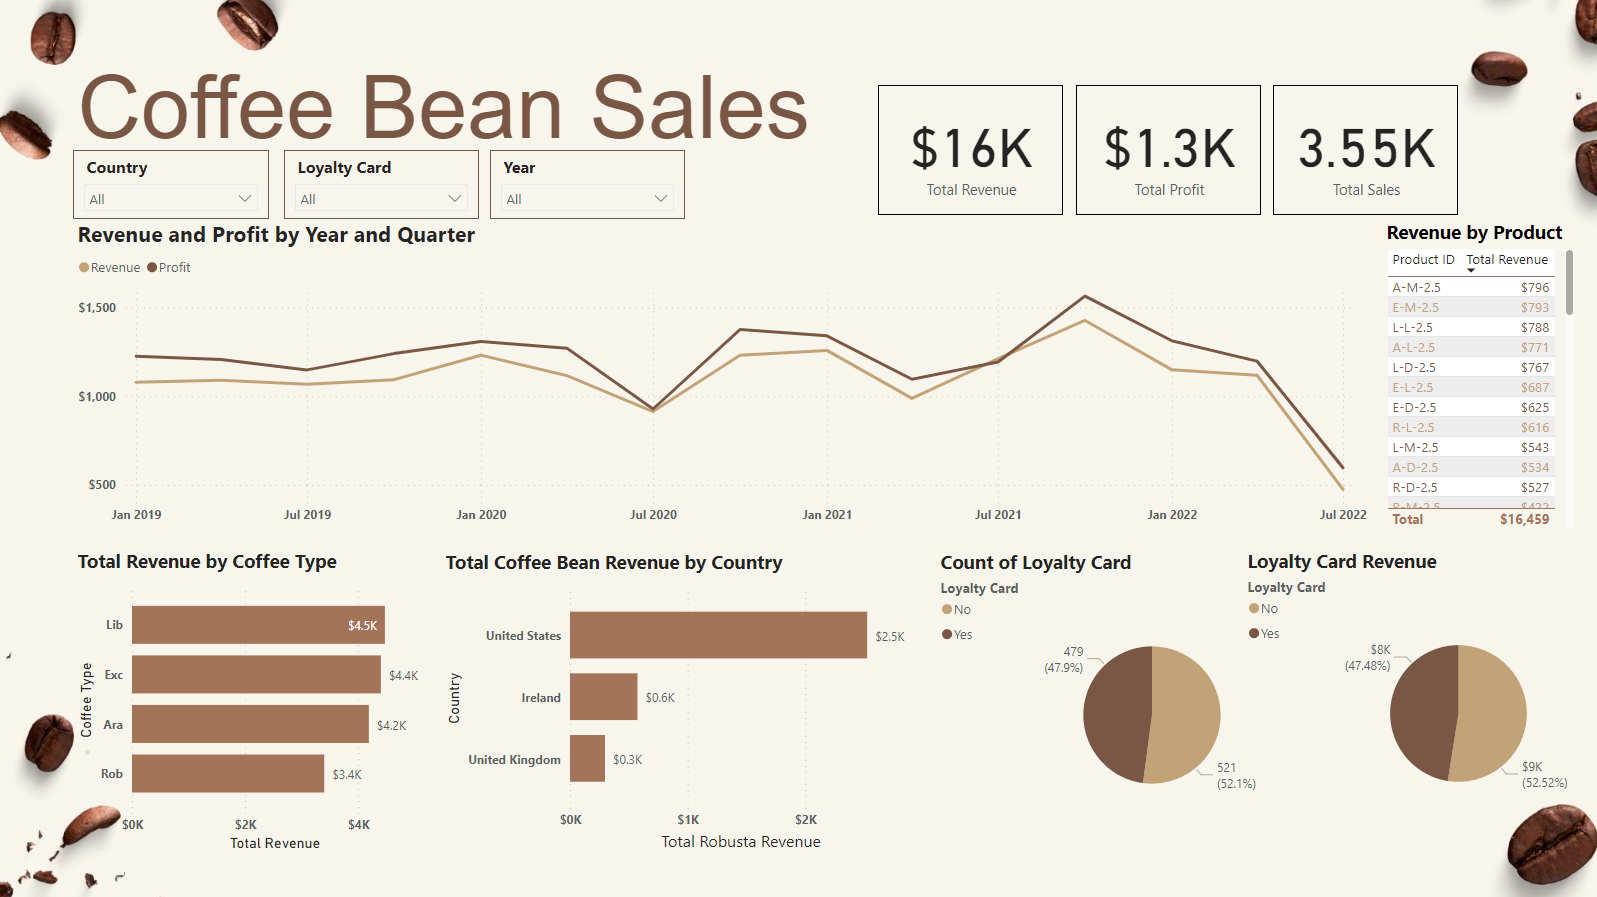

This screenshot's page, from the dashboard's own definition file:
{"tool":"powerbi","page":{"name":"Page 1","canvas":[1600,900],"ordinal":0},"visuals":[{"type":"card","fields":{"Values":["Query1.Total_Revenue"]},"box":[878.9,85,184.8,130],"z":0},{"type":"lineChart","fields":{"Y":["Query1.Total Revenue"],"Category":["Query1.Order Date.Variation.Date Hierarchy.Year","Query1.Order Date.Variation.Date Hierarchy.Quarter","Query1.Order Date.Variation.Date Hierarchy.Month","Query1.Order Date.Variation.Date Hierarchy.Day"],"Y2":["Query1.Profit"]},"box":[74.4,219.1,1298.3,313.9],"z":1000},{"type":"card","fields":{"Values":["Query1.Profit"]},"box":[1076.8,85,184.8,130],"z":2000},{"type":"clusteredBarChart","title":"Total Revenue by Coffee Type","fields":{"Category":["Query1.Coffee Type"],"Y":["Query1.Total Revenue"]},"box":[74.4,547.8,360.6,308.2],"z":3000},{"type":"clusteredBarChart","title":"Total Coffee Bean Revenue by Country","fields":{"Y":["Query1.Total Robusta Revenue"],"Category":["Query1.Country"]},"box":[442.3,548.6,486.5,307.4],"z":4000},{"type":"card","fields":{"Values":["Query1.Quantity"]},"box":[1273.8,85,184.8,130],"z":5000},{"type":"pieChart","title":"Count of Loyalty Card","fields":{"Y":["Query1.Loyalty Card"],"Category":["Query1.Loyalty Card"]},"box":[936.9,549.4,336.8,306.6],"z":6000},{"type":"tableEx","title":"Revenue by Product","fields":{"Values":["Query1.Product ID","Query1.Total Revenue"]},"box":[1383.3,219.1,197,313.9],"z":8000},{"type":"textbox","box":[74.4,51.5,879.7,130],"z":9000},{"type":"slicer","fields":{"Values":["Query1.Country"]},"box":[74.4,150.4,195.4,68.7],"z":10000},{"type":"slicer","fields":{"Values":["Query1.Loyalty Card"]},"box":[284.5,150.4,195.4,68.7],"z":11000},{"type":"slicer","fields":{"Values":["Query1.Order Date.Variation.Date Hierarchy.Year"]},"box":[490.5,150.4,195.4,68.7],"z":12000},{"type":"pieChart","title":"Loyalty Card Revenue","fields":{"Y":["Query1.Total Revenue"],"Category":["Query1.Loyalty Card"]},"box":[1243.5,547.8,336.8,306.6],"z":14000}]}

Visuals, with their boxes in screenshot pixels (x1, y1, x2, y2), scaled from the page's 1600x900 canvas onto the 1597x897 screenshot:
card - Query1.Total_Revenue: select_region(877, 85, 1062, 214)
lineChart - Query1.Total Revenue x Query1.Order Date.Variation.Date Hierarchy.Year: select_region(74, 218, 1370, 531)
card - Query1.Profit: select_region(1075, 85, 1259, 214)
"Total Revenue by Coffee Type" clusteredBarChart: select_region(74, 546, 434, 853)
"Total Coffee Bean Revenue by Country" clusteredBarChart: select_region(441, 547, 927, 853)
card - Query1.Quantity: select_region(1271, 85, 1456, 214)
"Count of Loyalty Card" pieChart: select_region(935, 548, 1271, 853)
"Revenue by Product" tableEx: select_region(1381, 218, 1577, 531)
textbox: select_region(74, 51, 952, 181)
slicer - Query1.Country: select_region(74, 150, 269, 218)
slicer - Query1.Loyalty Card: select_region(284, 150, 479, 218)
slicer - Query1.Order Date.Variation.Date Hierarchy.Year: select_region(490, 150, 685, 218)
"Loyalty Card Revenue" pieChart: select_region(1241, 546, 1577, 852)
